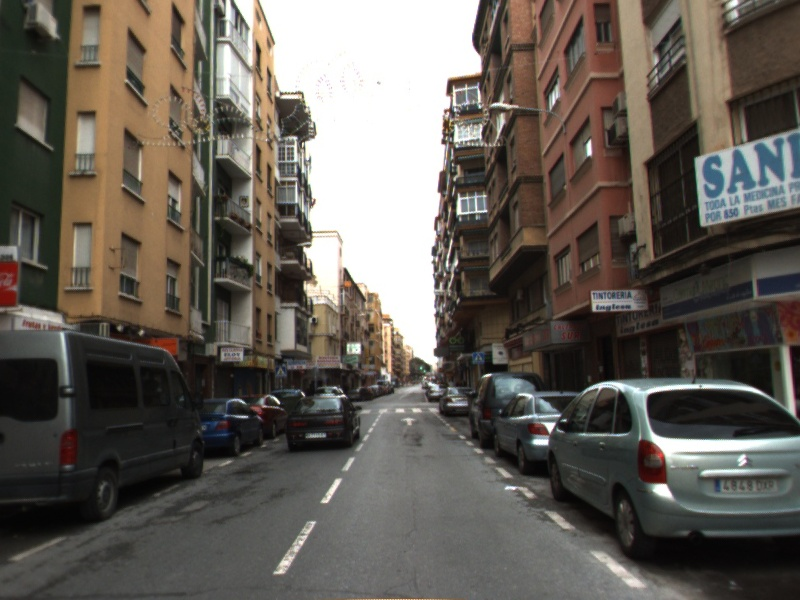STRAIGHT: (399, 415, 419, 427)
